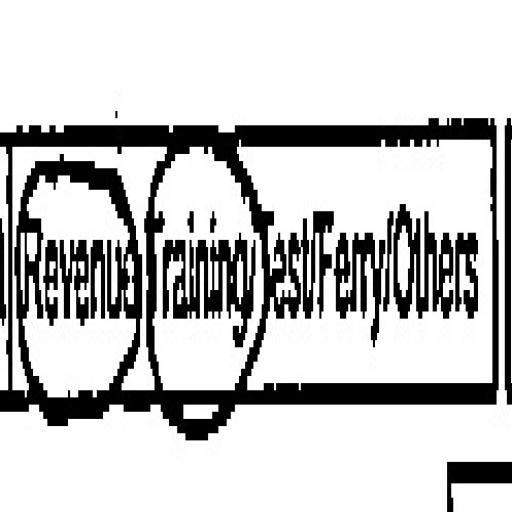check: (14, 138, 143, 462), (148, 86, 253, 466)
